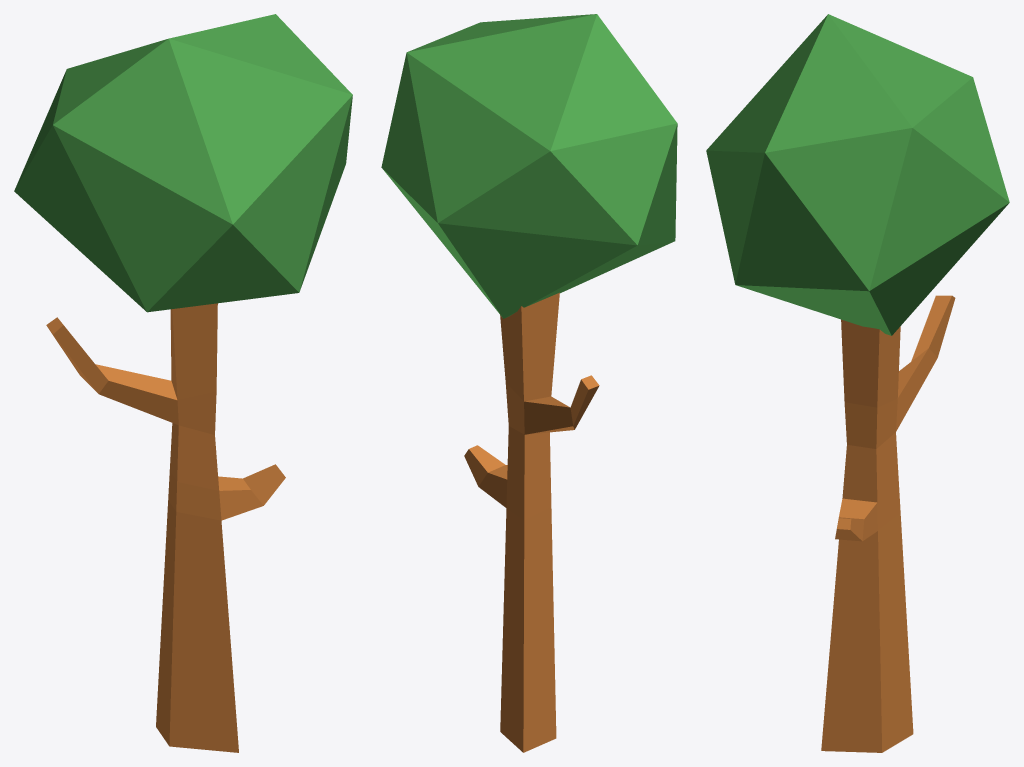
Rendered from tree_green.fbx.
3 views of the same model, side by side, from view 1: azimuth 30°, elevation 25°; view 2: azimuth 150°, elevation 25°; view 3: azimuth 270°, elevation 25° (orthographic). The views are drawn at different scales.
Parts seen in each view (by area): view 1: arvore_verde_tex.061, arvore_verde.061; view 2: arvore_verde_tex.061, arvore_verde.061; view 3: arvore_verde_tex.061, arvore_verde.061.
Part boxes in pixels (left/top/right/bottom): arvore_verde_tex.061: left=14, top=14, right=352, bottom=312; arvore_verde.061: left=46, top=303, right=285, bottom=752; arvore_verde_tex.061: left=381, top=14, right=677, bottom=318; arvore_verde.061: left=464, top=292, right=599, bottom=752; arvore_verde_tex.061: left=706, top=14, right=1009, bottom=335; arvore_verde.061: left=821, top=295, right=955, bottom=752.
Bounding box in the file's own units: 258 × 603 × 235.
